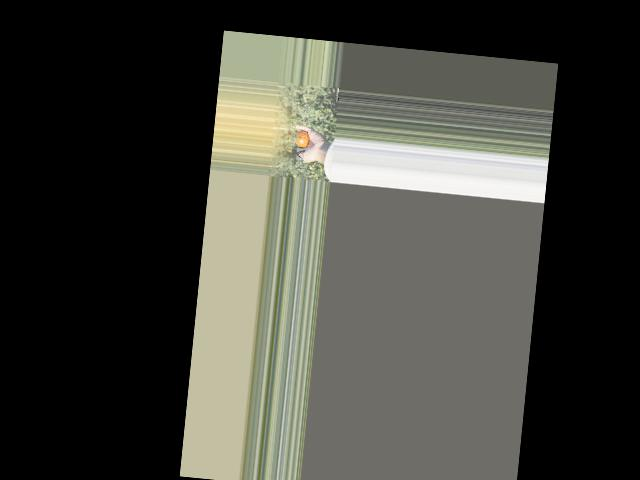tomato: (293, 129, 310, 147)
